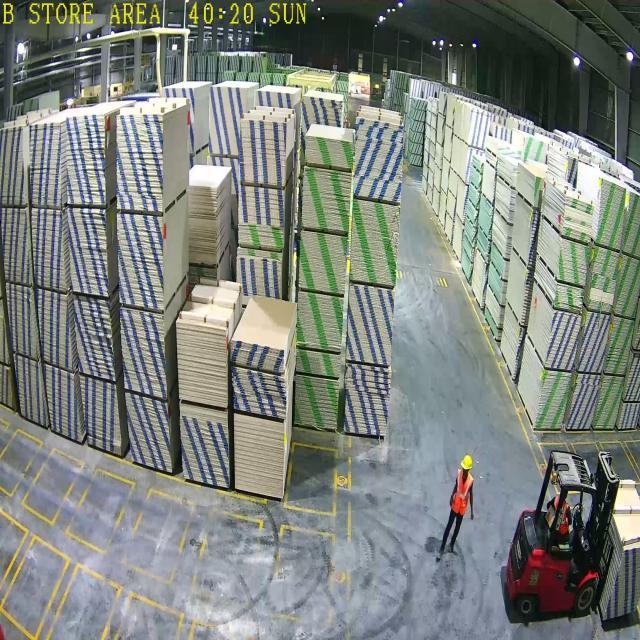material_stack: (344, 194, 402, 287), (350, 110, 406, 206), (231, 408, 288, 499), (344, 278, 398, 368), (344, 366, 392, 442), (238, 115, 286, 188), (300, 167, 353, 233), (229, 362, 288, 419), (296, 232, 350, 294), (294, 289, 344, 351), (292, 371, 340, 430), (236, 240, 284, 299), (532, 368, 574, 431), (587, 246, 622, 316), (544, 308, 581, 373), (226, 336, 288, 374), (564, 371, 602, 431), (596, 176, 626, 251), (238, 182, 287, 226), (577, 310, 611, 373), (305, 132, 354, 172), (593, 374, 626, 432), (604, 315, 635, 376), (294, 344, 342, 377), (562, 194, 594, 243), (556, 241, 590, 286), (554, 280, 586, 316)
